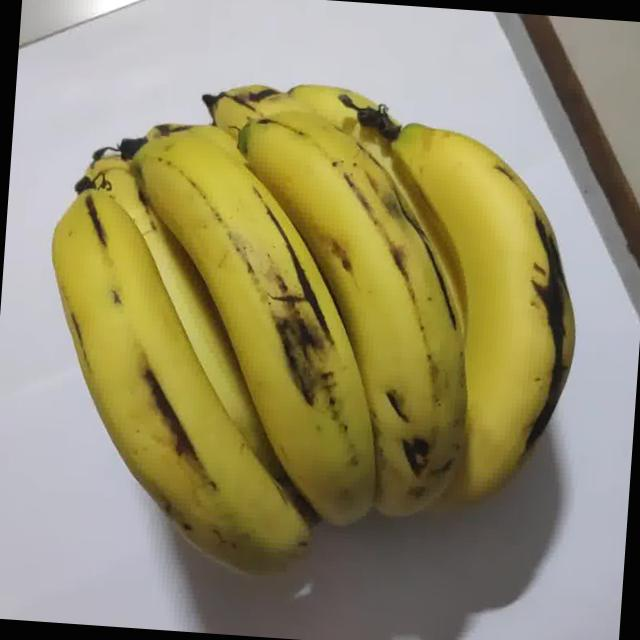banana_pacche: (10, 0, 615, 633)
